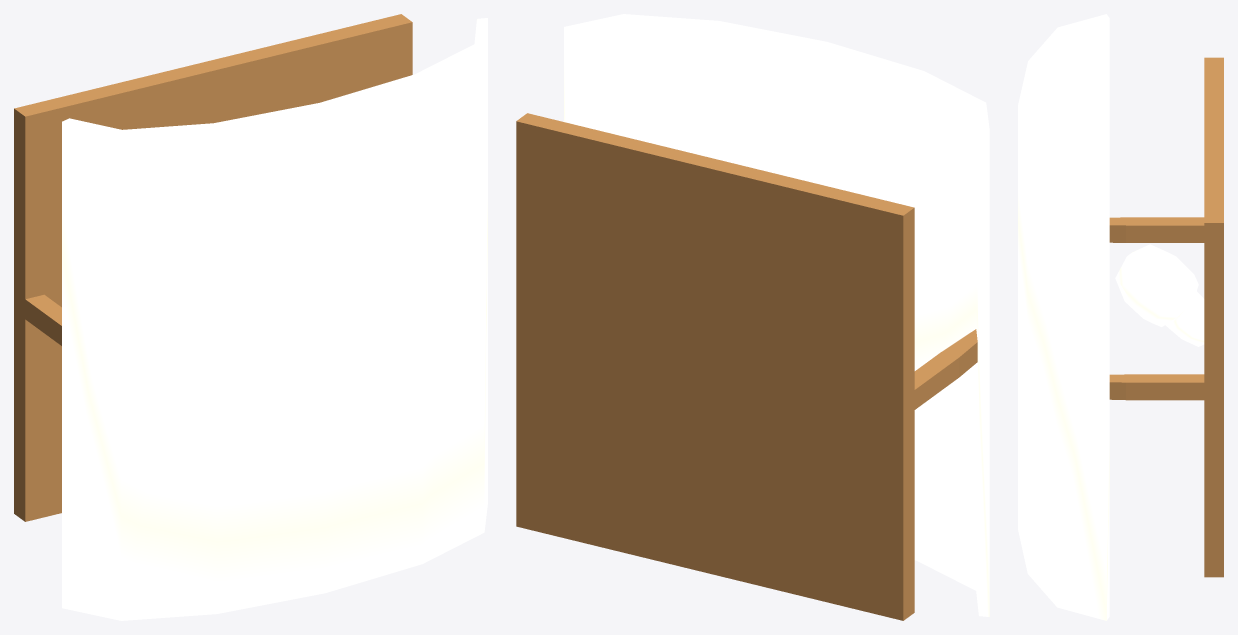
File: Lampara.fbx
3 views of the same model, side by side, from view 1: azimuth 30°, elevation 25°; view 2: azimuth 150°, elevation 25°; view 3: azimuth 270°, elevation 25° (orthographic). The views are drawn at different scales.
Visible parts, largest first — view 1: Lampara; view 2: Lampara; view 3: Lampara.
Boxes of the visible parts, left/top/right/bottom form: Lampara: left=14, top=14, right=487, bottom=620; Lampara: left=516, top=14, right=989, bottom=620; Lampara: left=1018, top=14, right=1223, bottom=620.
Bounding box in the file's own units: 220 × 240 × 105.
